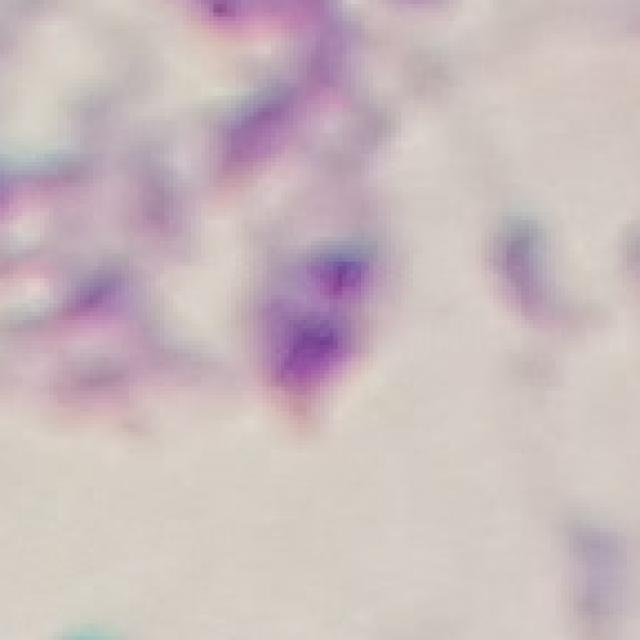non-sperm: (144, 70, 467, 460)
